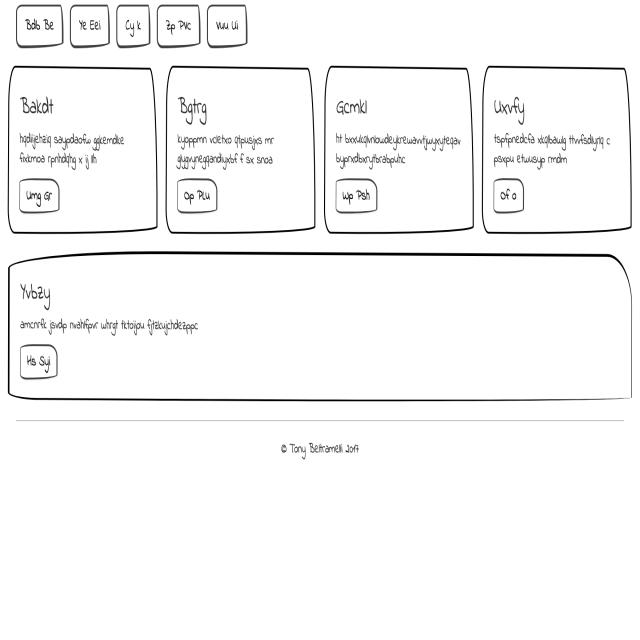Button: (17, 170, 62, 218), (173, 175, 221, 218), (336, 172, 378, 216), (16, 341, 59, 381), (491, 172, 526, 218)
Card: (7, 250, 635, 402), (7, 62, 159, 236), (481, 64, 632, 236), (166, 60, 316, 233), (325, 65, 476, 234)
Footer: (1, 418, 639, 640)
Heading 6: (177, 90, 212, 130), (19, 85, 56, 122), (17, 276, 56, 311), (492, 94, 531, 127), (334, 92, 372, 117)
Navigation Bar: (16, 4, 250, 48)
Paragraph: (332, 129, 464, 167), (15, 128, 126, 172), (492, 130, 613, 169), (173, 132, 286, 172), (18, 316, 205, 338)
